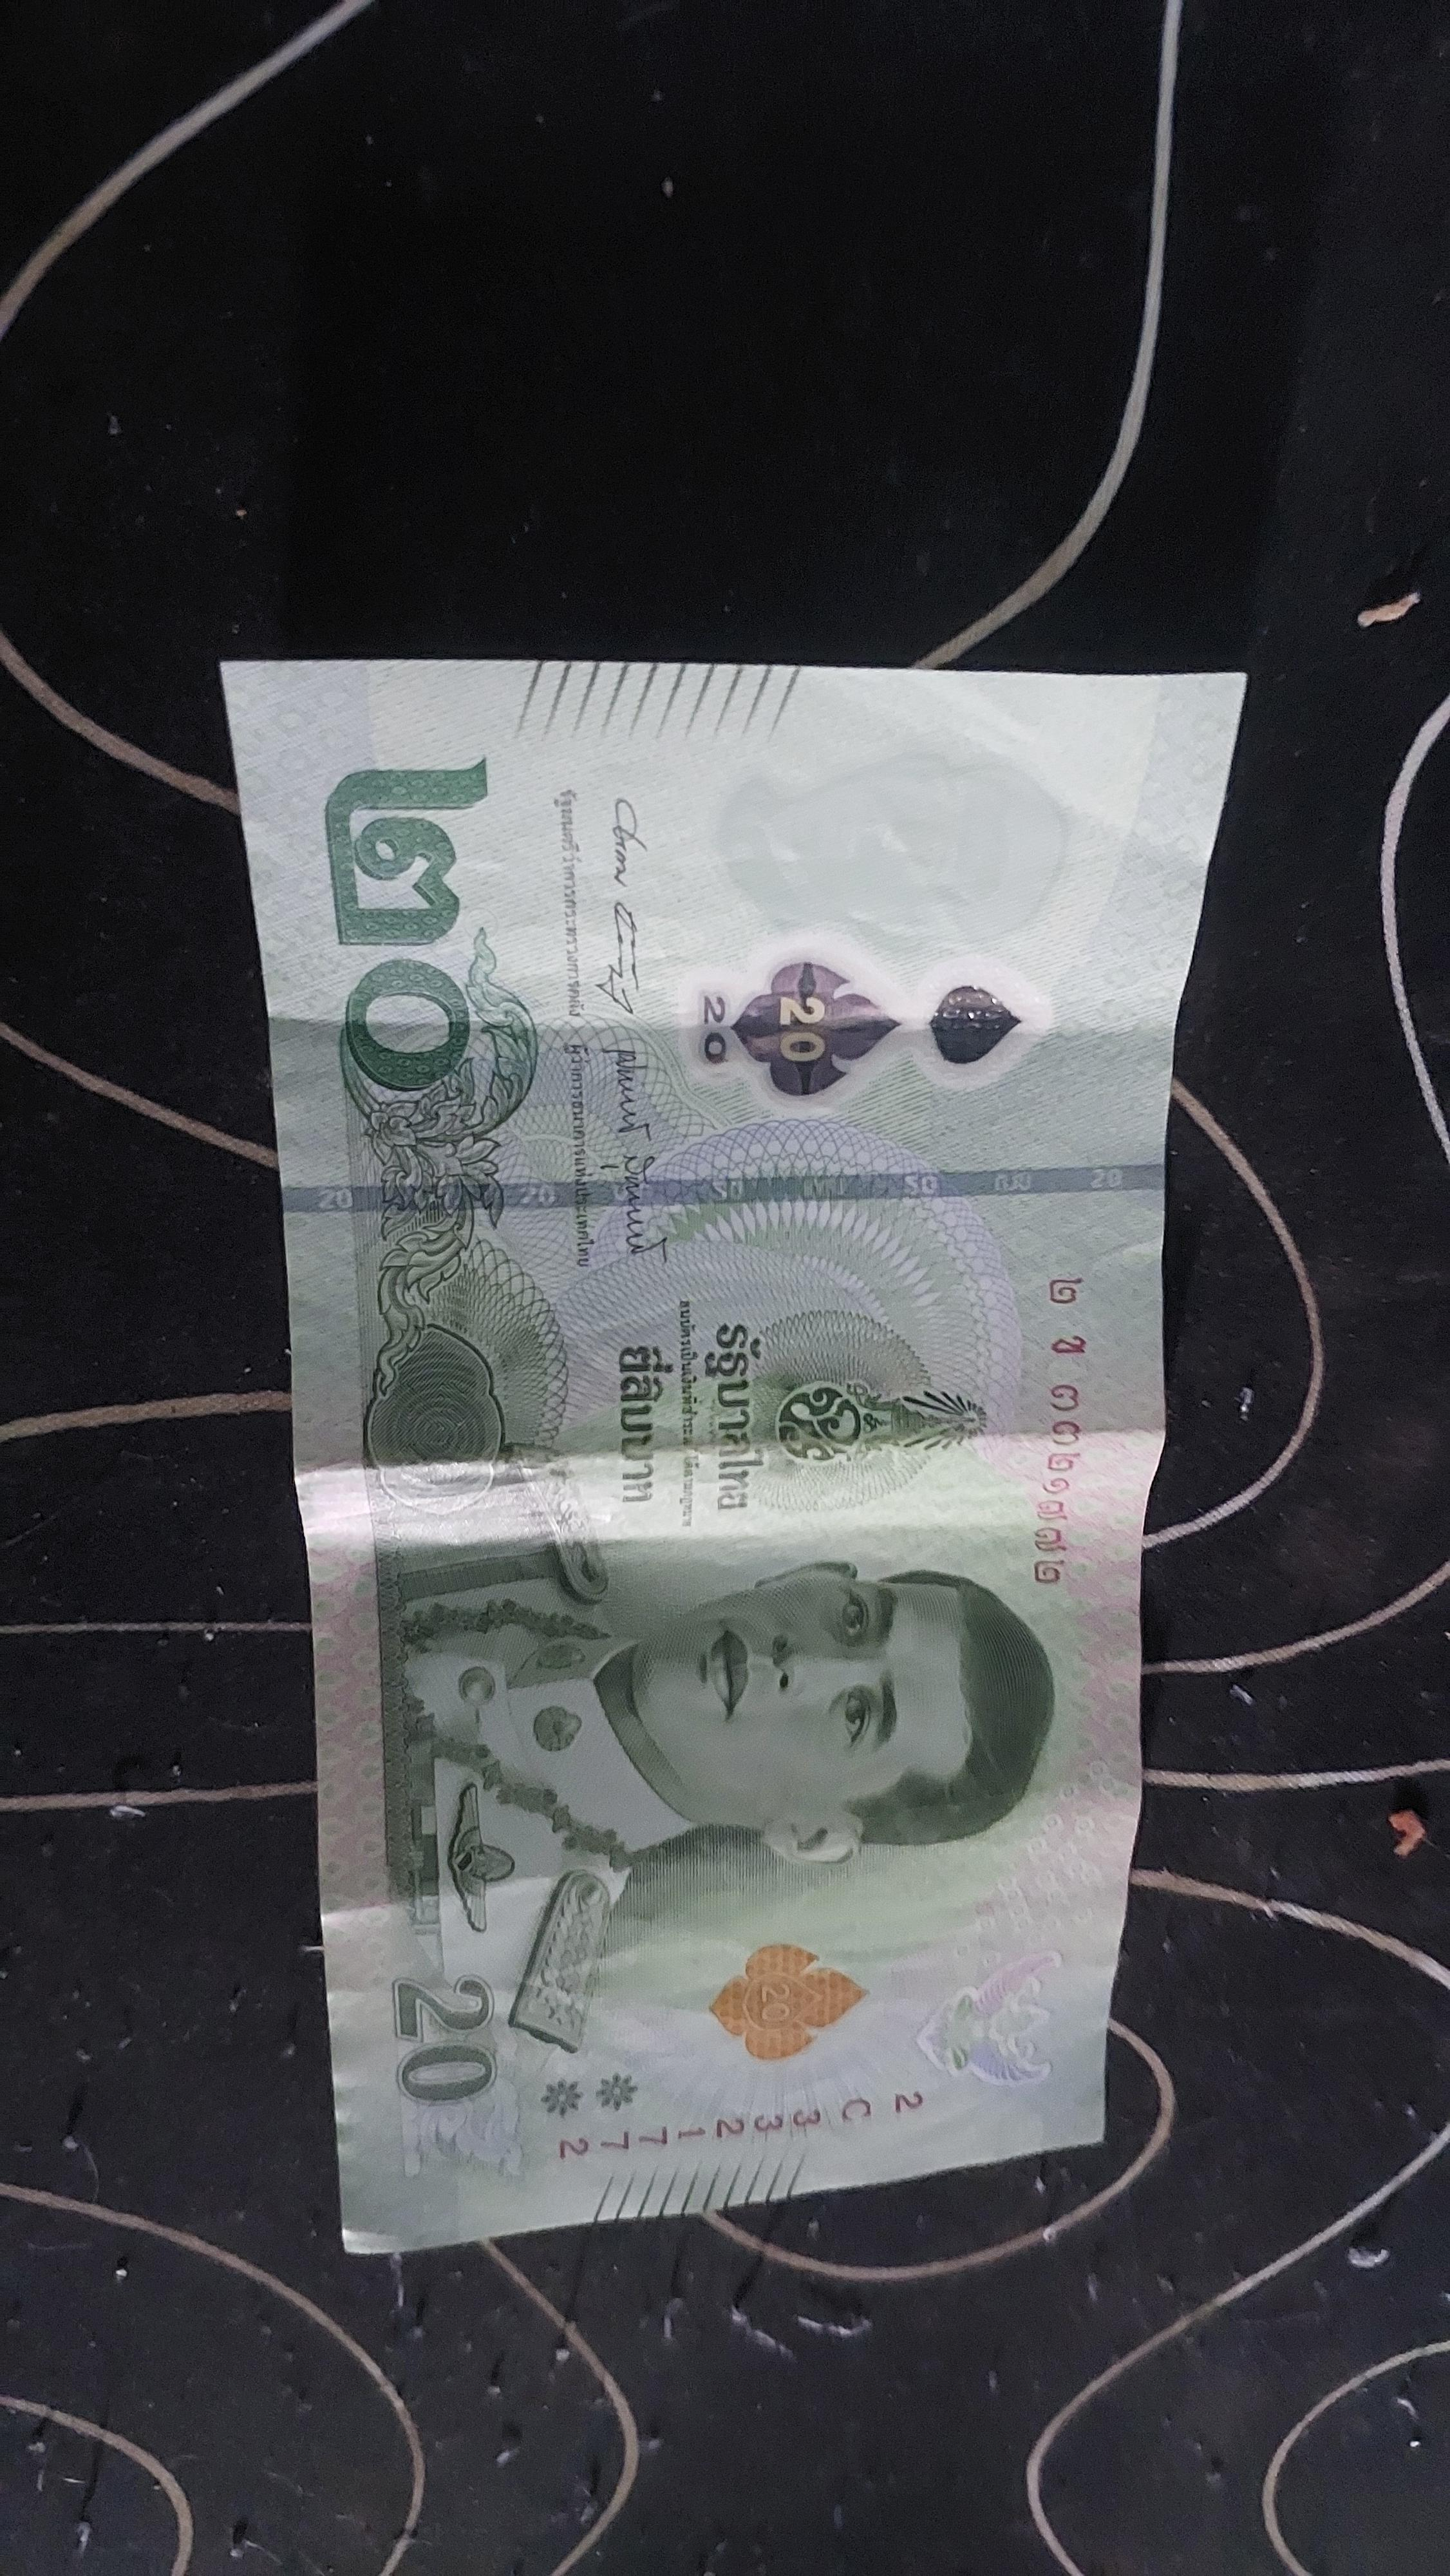20baht: (170, 577, 1330, 2277)
